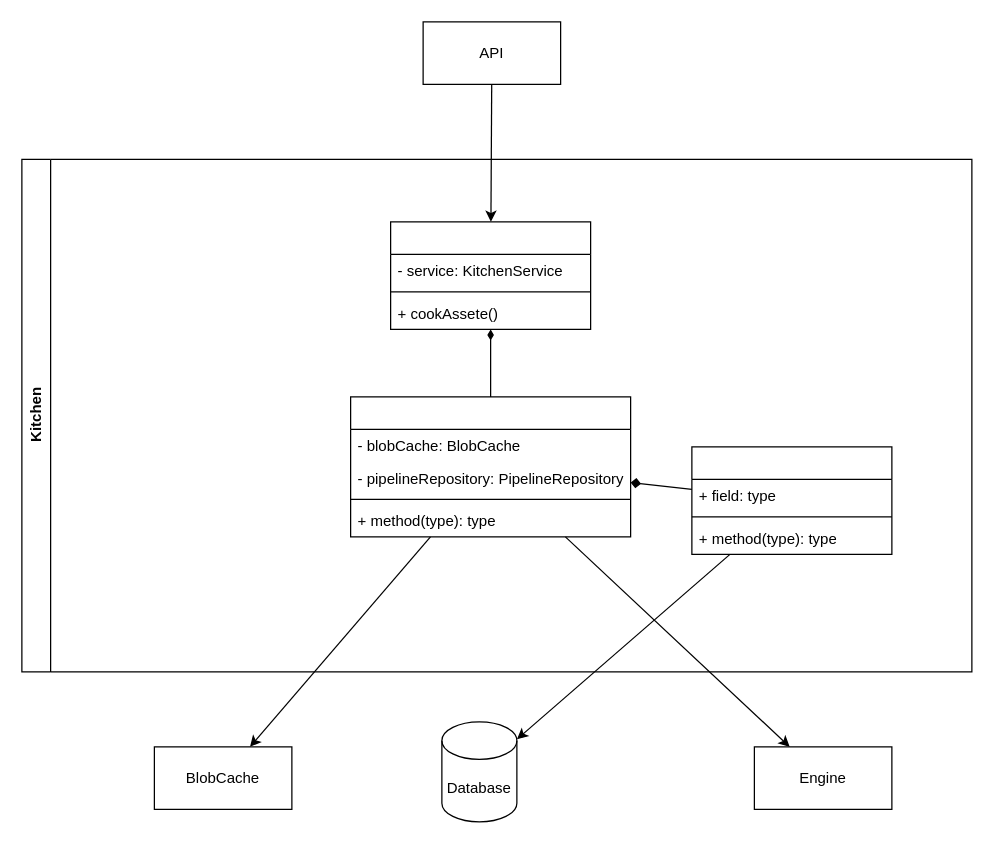
This 994x844 diagram has some shape labels left out. Here are the shapes that lost their labels. From the top down, the box of each, then its label:
(389, 221, 591, 329): KitchenController
(349, 396, 631, 537): KitchenService
(691, 446, 892, 554): PipelineRepository
